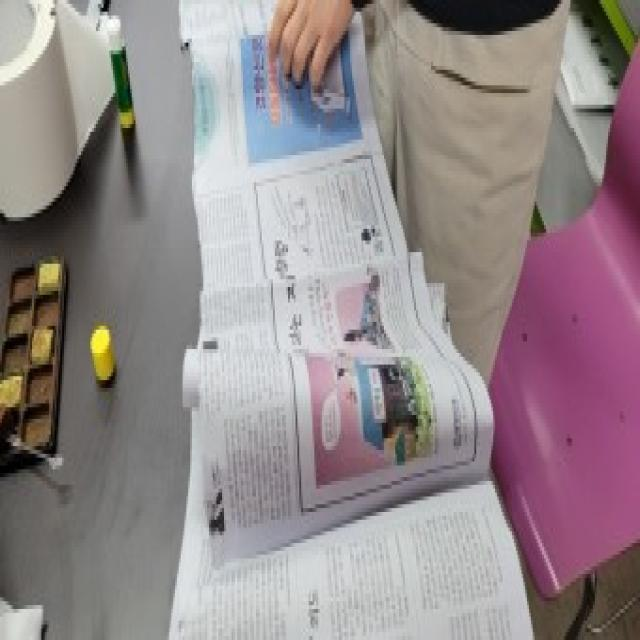Newspaper: (166, 0, 539, 640)
